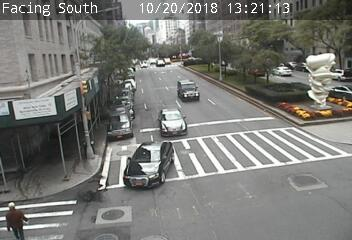car: (123, 141, 173, 187), (158, 109, 185, 137), (177, 80, 198, 101), (156, 60, 164, 67)
